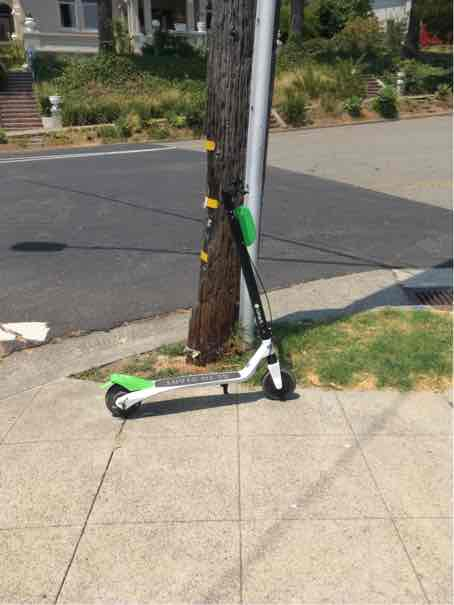scooter: (85, 146, 300, 425)
